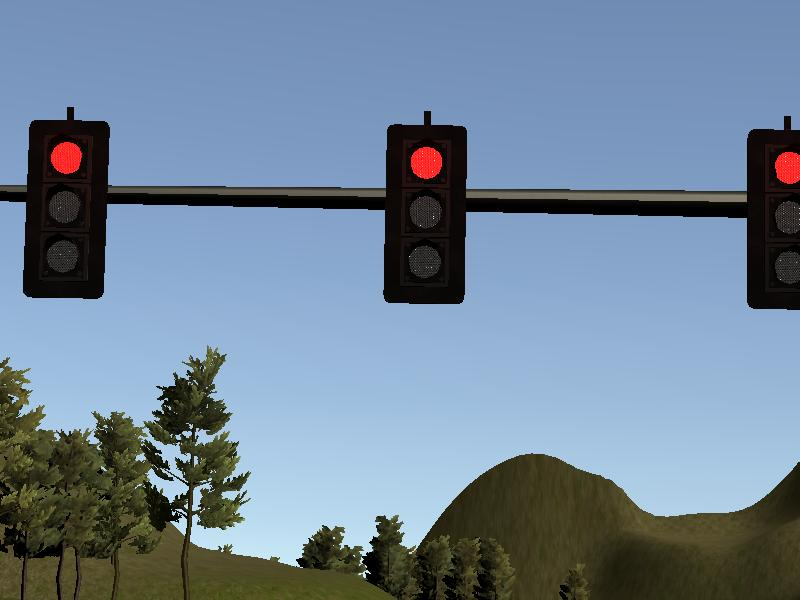red: (23, 119, 106, 299), (385, 125, 465, 303), (745, 131, 800, 309)
